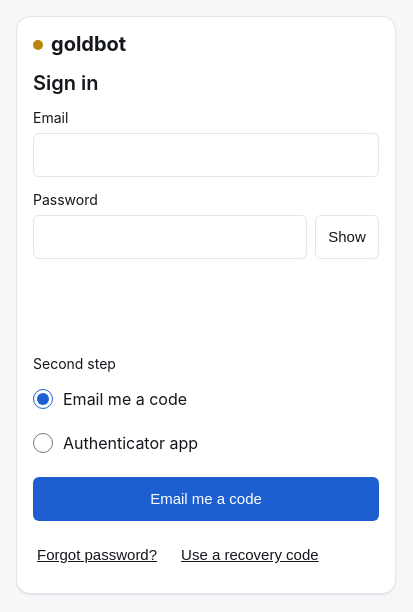
Login with an emailed code › E: after 2 minutes without a code, suggests spam, the password, or the authenticator
Expected: the radio button labelled "Email me a code" is shown, [33,377,53,421]
Type "owner@example.com" into the field labelled "Email" at (206, 155), box [33,133,379,177]
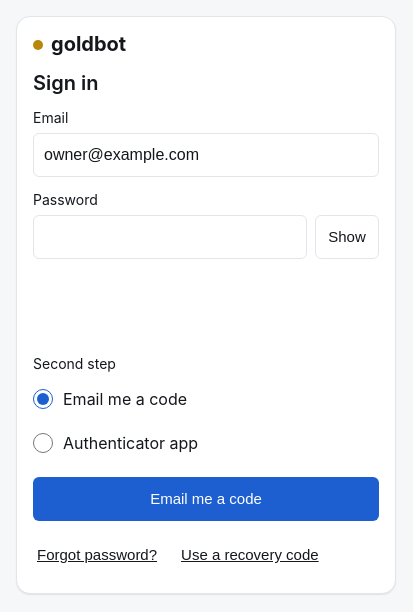
Type "owner password 123" into the password field labelled "Password" at (170, 237), box [33,215,307,259]
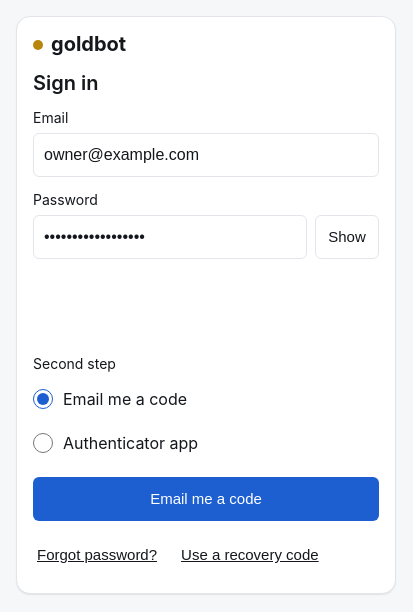
Click the button "Email me a code" at (206, 499), box [33,477,379,521]
Wait 120000 ms
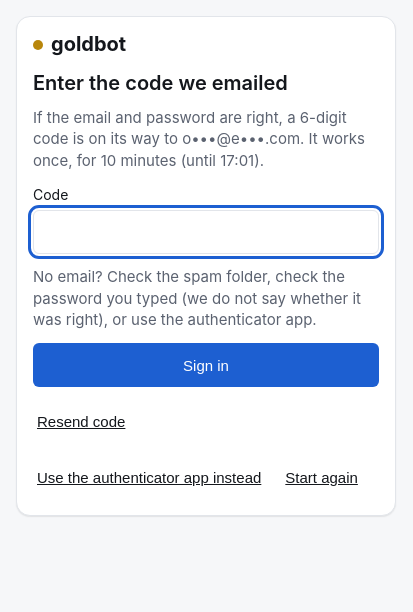
Expected: the heading "Enter the code we emailed" is shown, [33,71,288,95]
Expected: the text "No email? Check the spam folder, check the password you typed (we do not say whether it was right), or use the authentic" is shown, [33,267,361,329]
